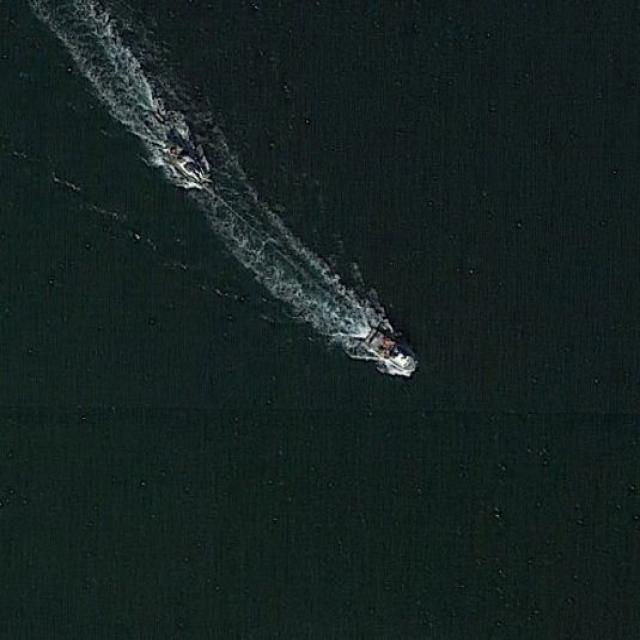ship: (156, 135, 217, 192), (358, 322, 420, 377)
